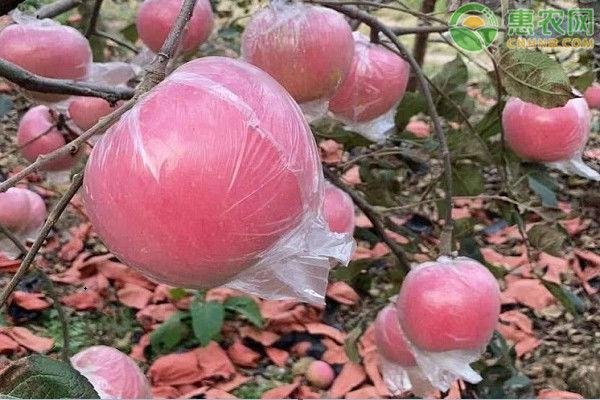apple: (80, 57, 323, 287), (239, 1, 354, 105), (397, 256, 502, 351), (1, 20, 93, 104), (329, 35, 411, 123), (502, 84, 590, 161), (15, 103, 85, 170), (135, 1, 213, 59)
